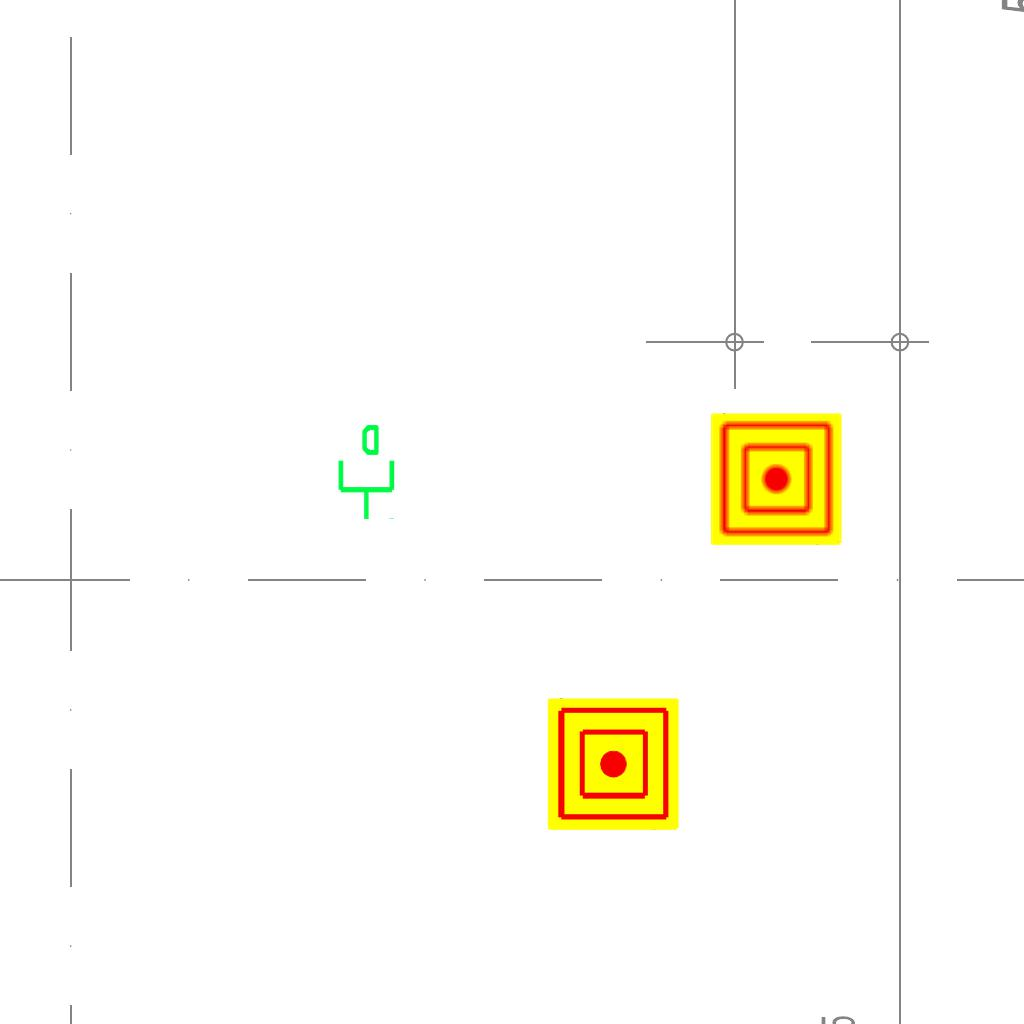Datenanschluss_einfach: (330, 422, 399, 522)
NAM-Nichtautomatischer_Melder: (710, 413, 842, 545), (547, 698, 679, 830)
